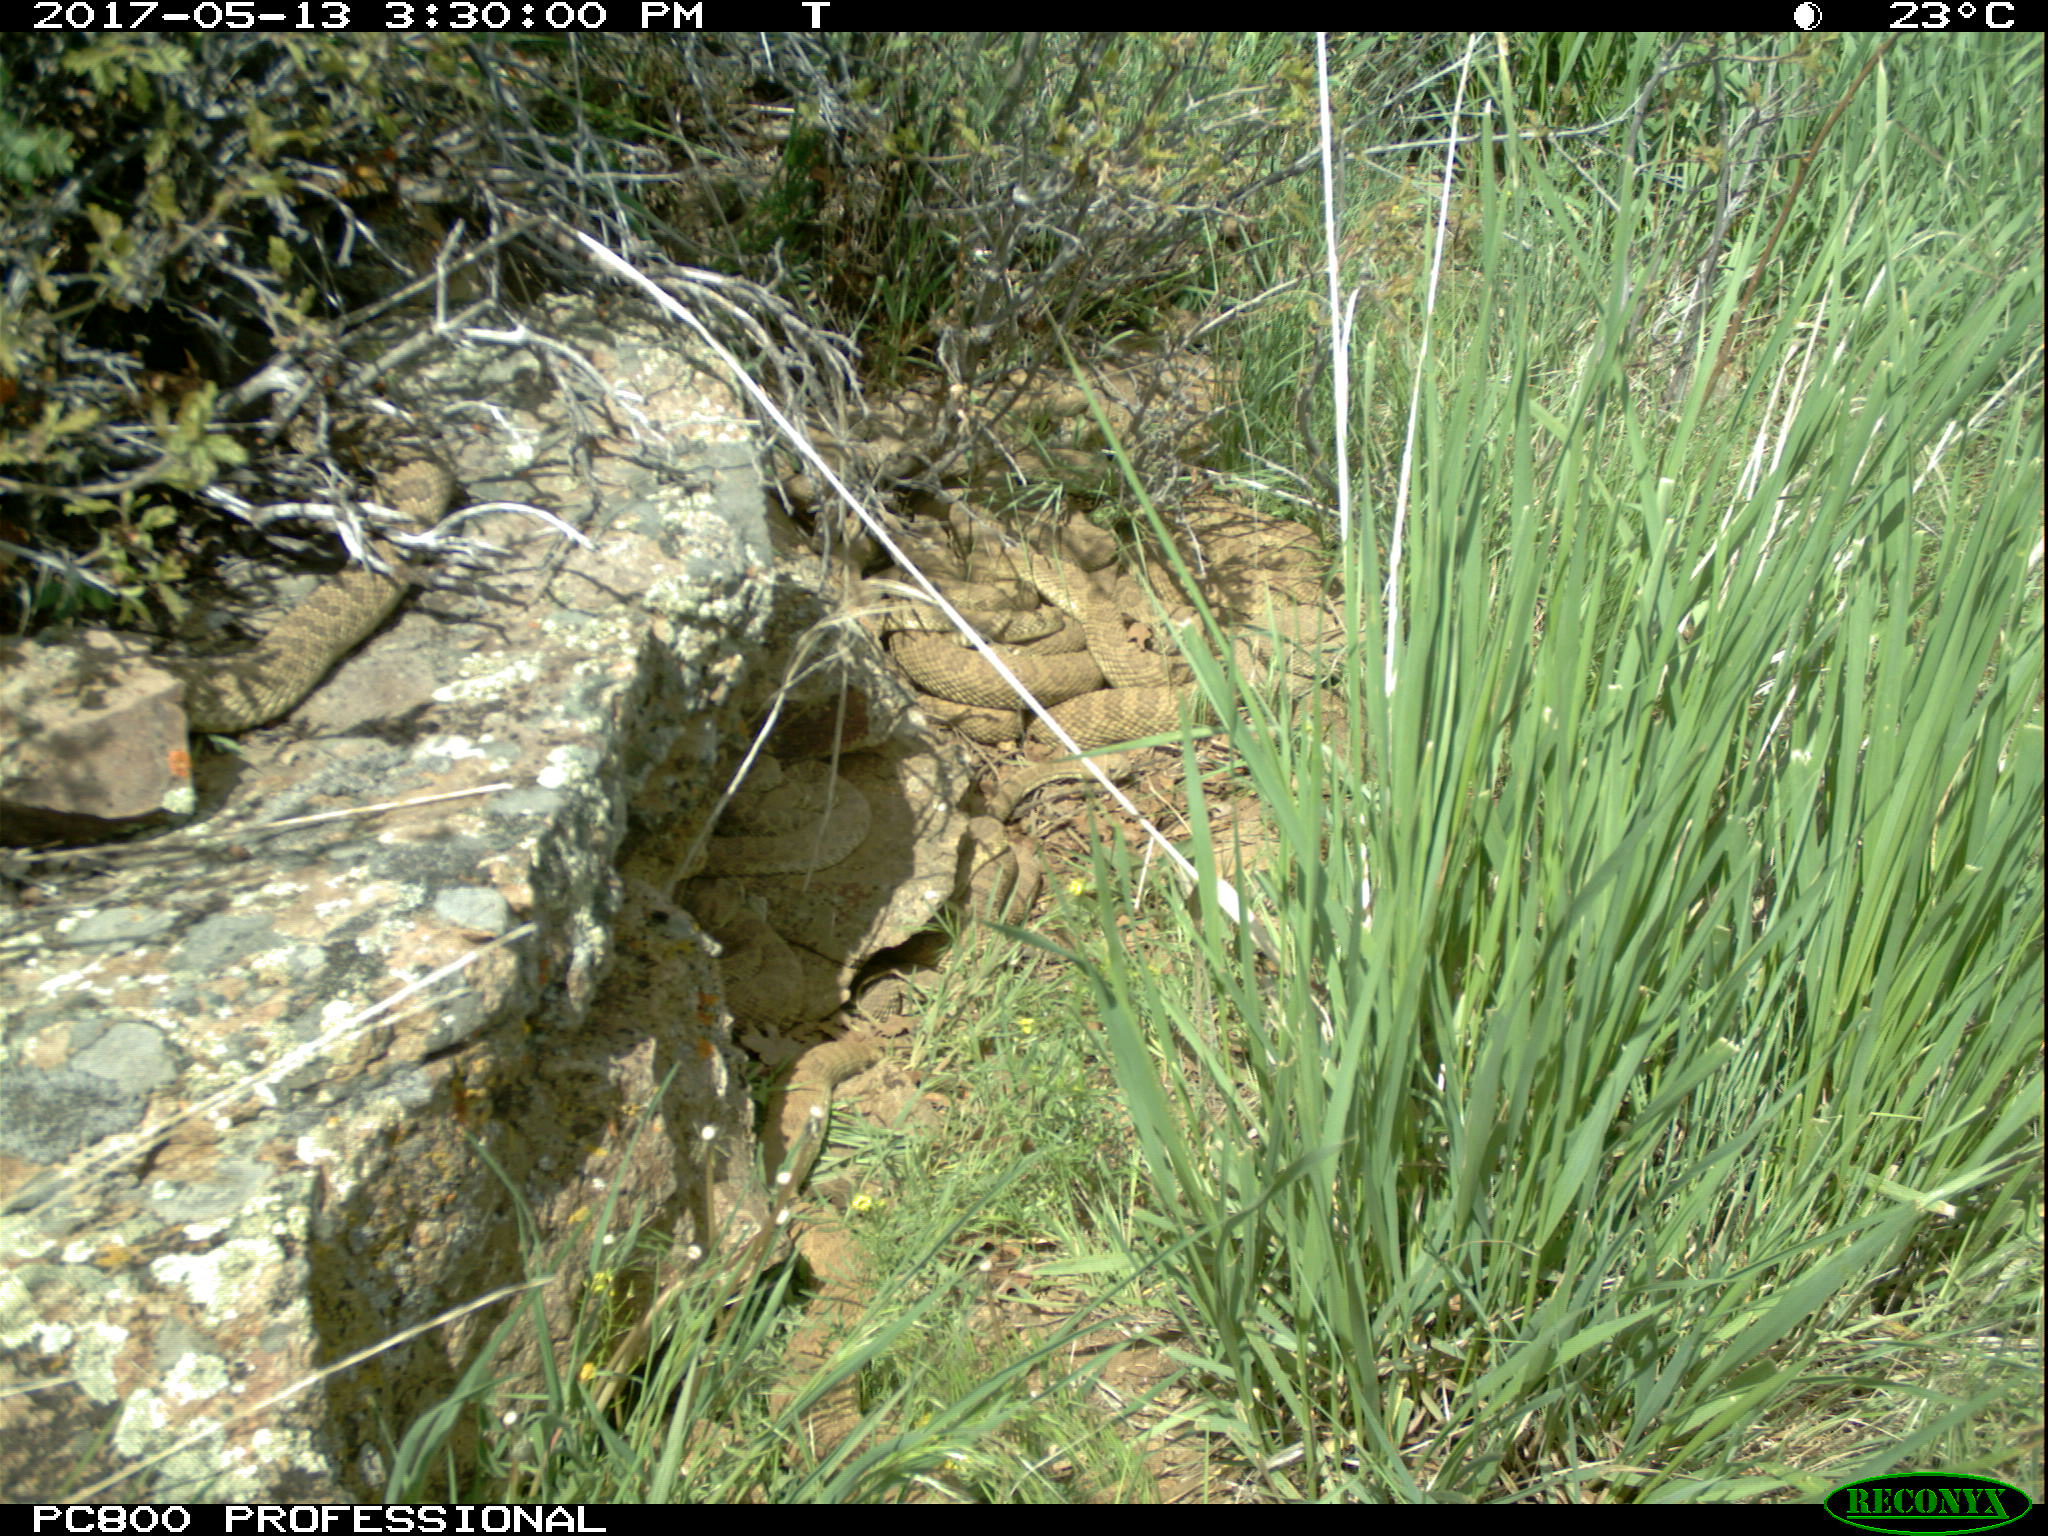snake: (182, 461, 443, 737), (1014, 563, 1243, 745), (1176, 499, 1343, 686), (884, 573, 1105, 708), (785, 1212, 874, 1478), (689, 752, 871, 873), (689, 879, 806, 1054), (763, 1037, 871, 1226), (980, 752, 1130, 812), (1042, 394, 1143, 457)
